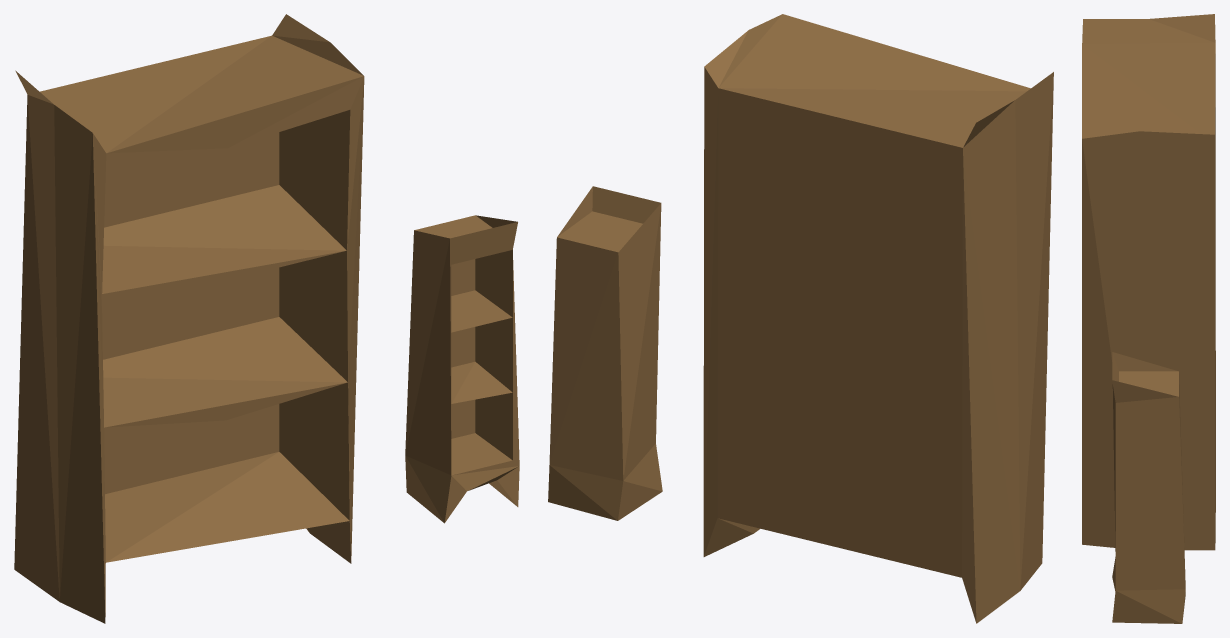
The model's file is bookshelves.lod2.glb.
The picture shows the model from 3 angles, left to right: view 1: azimuth 30°, elevation 25°; view 2: azimuth 150°, elevation 25°; view 3: azimuth 270°, elevation 25°; orthographic projection. The views are drawn at different scales.
Visible parts, largest first — view 1: Object_4; view 2: Object_4; view 3: Object_4.
Boxes of the visible parts, left/top/right/bottom form: Object_4: left=14, top=14, right=519, bottom=623; Object_4: left=548, top=14, right=1053, bottom=623; Object_4: left=1082, top=14, right=1215, bottom=623.
Bounding box in the file's own units: 2.43 × 2.6 × 0.7412.
